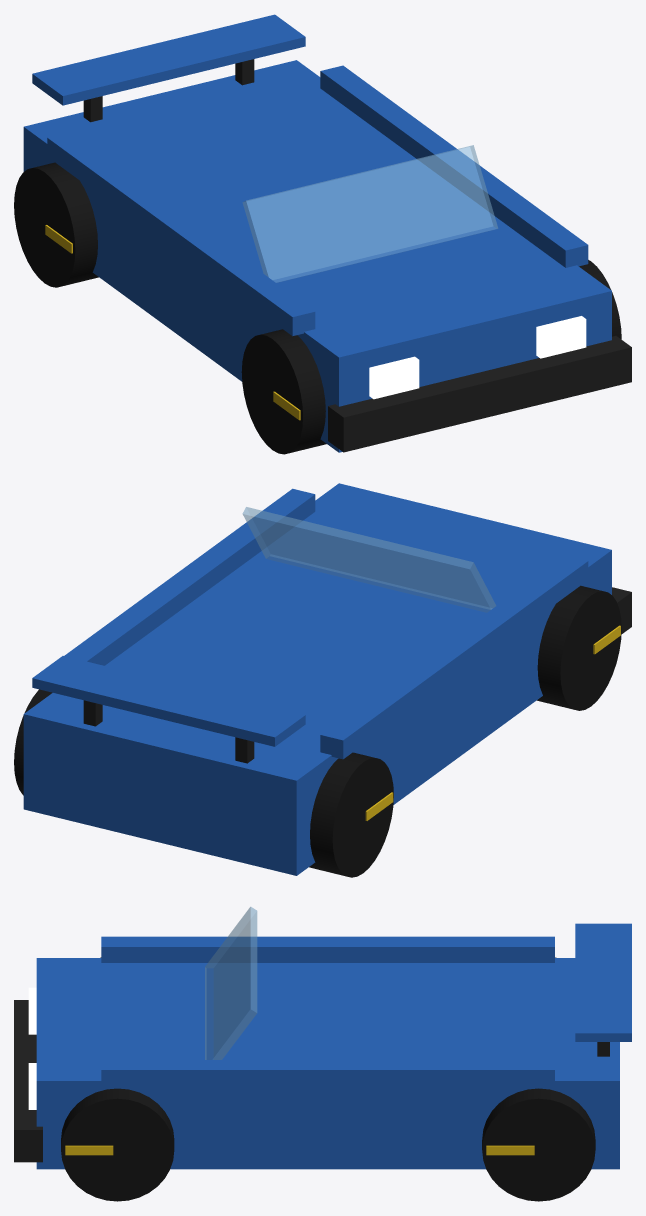
The model's file is derby-car.glb.
The picture shows the model from 3 angles, top to bottom: view 1: azimuth 30°, elevation 25°; view 2: azimuth 150°, elevation 25°; view 3: azimuth 270°, elevation 25°; orthographic projection. The views are drawn at different scales.
Parts seen in each view (by area): view 1: Chassis, Windshield, RamBar, Fender_R, Fender_L, Spoiler, Wheel_FL, Wheel_RL, Headlight_L, Headlight_R, Wheel_FR; view 2: Chassis, Windshield, Fender_R, Spoiler, Fender_L, Wheel_RL, Wheel_FL, Wheel_RR, RamBar; view 3: Chassis, Fender_L, Fender_R, Wheel_RR, Wheel_FR, Spoiler, Windshield, RamBar, Stripe (×2), Headlight_R, Headlight_L.
Boxes of the visible parts, box(x1,y1,x2,y2) form: Chassis: box(23, 60, 611, 452); Windshield: box(242, 145, 497, 282); RamBar: box(328, 336, 631, 452); Fender_R: box(47, 132, 315, 336); Fender_L: box(320, 65, 588, 267); Spoiler: box(32, 14, 305, 105); Wheel_FL: box(241, 329, 326, 454); Wheel_RL: box(14, 162, 98, 287); Headlight_L: box(536, 316, 586, 358); Headlight_R: box(369, 356, 419, 399); Wheel_FR: box(579, 260, 621, 339); Chassis: box(23, 483, 611, 875); Windshield: box(242, 507, 495, 612); Fender_R: box(320, 555, 588, 759); Spoiler: box(32, 656, 305, 746); Fender_L: box(64, 488, 315, 665); Wheel_RL: box(309, 752, 393, 877); Wheel_FL: box(537, 585, 621, 710); Wheel_RR: box(14, 689, 52, 795); RamBar: box(612, 587, 631, 634); Chassis: box(36, 958, 619, 1169); Fender_L: box(101, 1060, 554, 1087); Fender_R: box(101, 936, 554, 962); Wheel_RR: box(482, 1088, 595, 1201); Wheel_FR: box(61, 1088, 174, 1201); Spoiler: box(575, 923, 631, 1041); Windshield: box(205, 907, 257, 1059); RamBar: box(14, 1000, 42, 1162); Stripe (×2): box(65, 1145, 534, 1155); Headlight_R: box(28, 987, 36, 1034); Headlight_L: box(28, 1063, 36, 1109).
Bounding box in the file's own units: 2.12 × 1.17 × 3.82.
